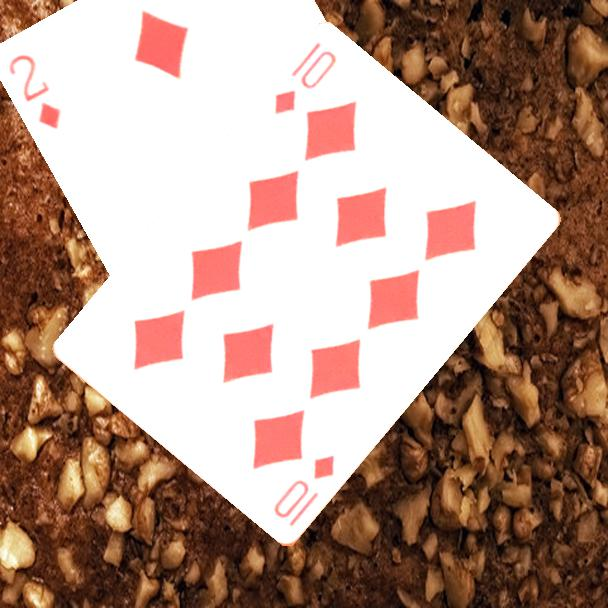d02: (5, 51, 65, 133)
d10: (270, 39, 340, 119), (270, 452, 338, 522)
